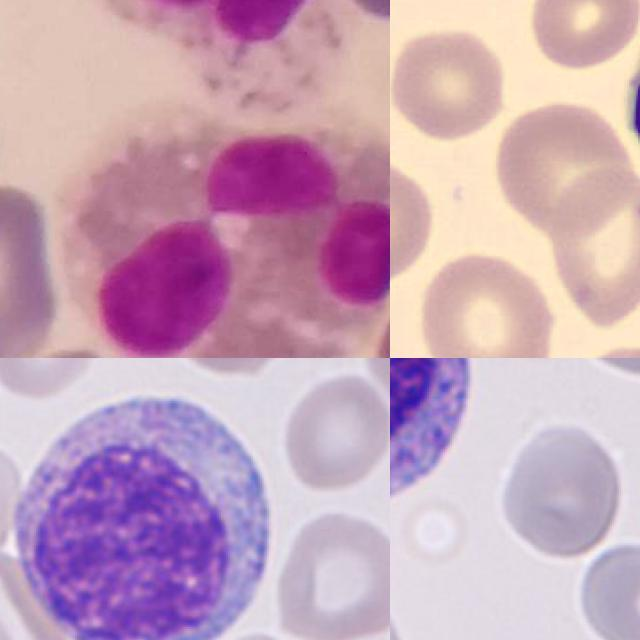Eosinophil: (60, 73, 390, 358)
Lymphocyte: (0, 377, 286, 640)
RBC: (491, 96, 637, 239), (495, 419, 628, 565), (412, 245, 559, 358), (545, 162, 640, 332), (271, 506, 390, 640), (390, 19, 512, 143), (276, 369, 390, 497), (522, 0, 640, 74), (569, 538, 640, 640), (390, 152, 439, 291), (0, 358, 107, 403), (556, 337, 640, 358)
